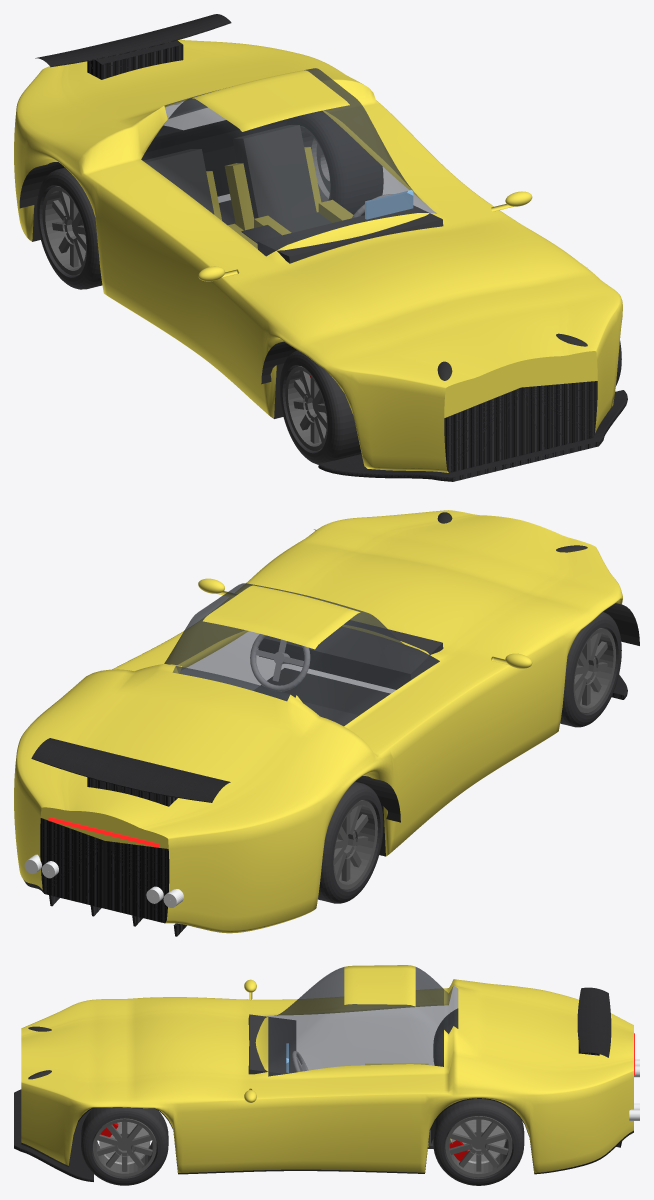
File: sls-amg-black-series.glb
The picture shows the model from 3 angles, top to bottom: view 1: azimuth 30°, elevation 25°; view 2: azimuth 150°, elevation 25°; view 3: azimuth 270°, elevation 25°; orthographic projection. The views are drawn at different scales.
Visible parts, largest first — view 1: Body_PrimaryPaint, Glass_Windows, Carbon_Exterior, Interior_Seats, Tire_RL, Tire_FR, Underbody, Interior_SeatBolsters, Tire_RR, Rim_RR, Interior_Dashboard, Rim_FR (+2 smaller); view 2: Body_PrimaryPaint, Glass_Windows, Carbon_Exterior, Interior_Dashboard, WheelWells, Rim_RR, Tire_RR, Rim_FR, Tire_FR, Interior_SteeringWheel, Chrome_Trim; view 3: Body_PrimaryPaint, Glass_Windows, Carbon_Exterior, Tire_RL, Tire_FL, Rim_RL, Rim_FL, Interior_Dashboard, Underbody, Tire_RR, BrakeDisc_RL, BrakeDisc_FL.
Boxes of the visible parts, x1,y1,x2,y2 form: Body_PrimaryPaint: [14, 40, 622, 472]; Glass_Windows: [141, 68, 436, 256]; Carbon_Exterior: [35, 14, 627, 481]; Interior_Seats: [143, 125, 331, 232]; Tire_RL: [285, 111, 383, 215]; Tire_FR: [279, 350, 361, 464]; Underbody: [32, 120, 610, 421]; Interior_SeatBolsters: [206, 147, 353, 249]; Tire_RR: [36, 167, 102, 289]; Rim_RR: [42, 186, 86, 275]; Interior_Dashboard: [257, 205, 443, 263]; Rim_FR: [285, 366, 327, 450]; Body_PrimaryPaint: [14, 510, 622, 933]; Glass_Windows: [164, 583, 439, 725]; Carbon_Exterior: [31, 674, 627, 936]; Interior_Dashboard: [258, 620, 443, 689]; WheelWells: [261, 529, 639, 822]; Rim_RR: [333, 800, 377, 889]; Tire_RR: [318, 781, 383, 903]; Rim_FR: [573, 628, 615, 712]; Tire_FR: [560, 612, 621, 727]; Interior_SteeringWheel: [250, 634, 310, 691]; Chrome_Trim: [24, 854, 183, 907]; Body_PrimaryPaint: [21, 965, 633, 1172]; Glass_Windows: [268, 967, 458, 1076]; Carbon_Exterior: [14, 987, 622, 1181]; Tire_RL: [433, 1099, 524, 1185]; Tire_FL: [81, 1107, 168, 1185]; Rim_RL: [445, 1116, 512, 1177]; Rim_FL: [93, 1118, 156, 1176]; Interior_Dashboard: [248, 1014, 296, 1076]; Underbody: [21, 1098, 633, 1174]; Tire_RR: [433, 1008, 458, 1066]; BrakeDisc_RL: [452, 1119, 505, 1163]; BrakeDisc_FL: [99, 1122, 150, 1164].
Size of the model in its own units: 2.14 by 1.26 by 4.74.
16 materials, 2 textured.
